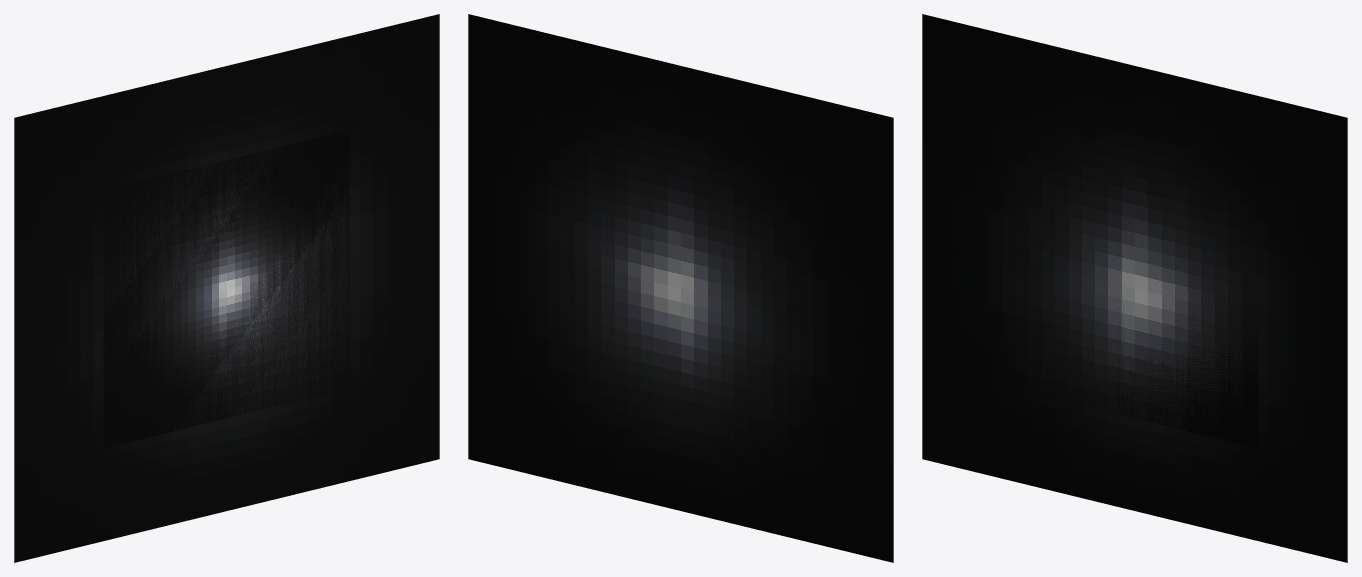
The model's file is flames&smoke_g0.fbx.
3 renders of one model, left to right at view 1: azimuth 30°, elevation 25°; view 2: azimuth 150°, elevation 25°; view 3: azimuth 330°, elevation 25°, orthographic.
Parts seen in each view (by area): view 1: flames&smoke_g0_L0_add; view 2: flames&smoke_g0_L0_add; view 3: flames&smoke_g0_L0_add.
Boxes of the visible parts, x1=… form: flames&smoke_g0_L0_add: x1=14, y1=14, x2=439, y2=562; flames&smoke_g0_L0_add: x1=468, y1=14, x2=893, y2=562; flames&smoke_g0_L0_add: x1=922, y1=14, x2=1347, y2=562.
Size of the model in its own units: 3.43 by 3.43 by 1.5e-07.
